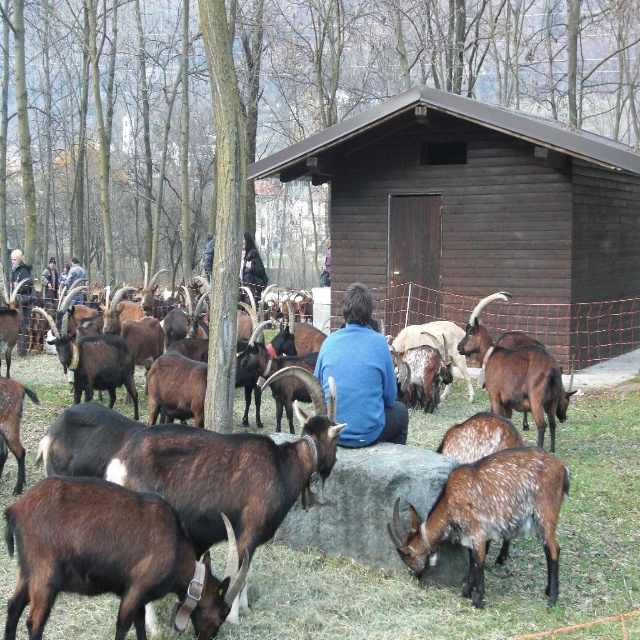Goat: (0, 262, 578, 640)
